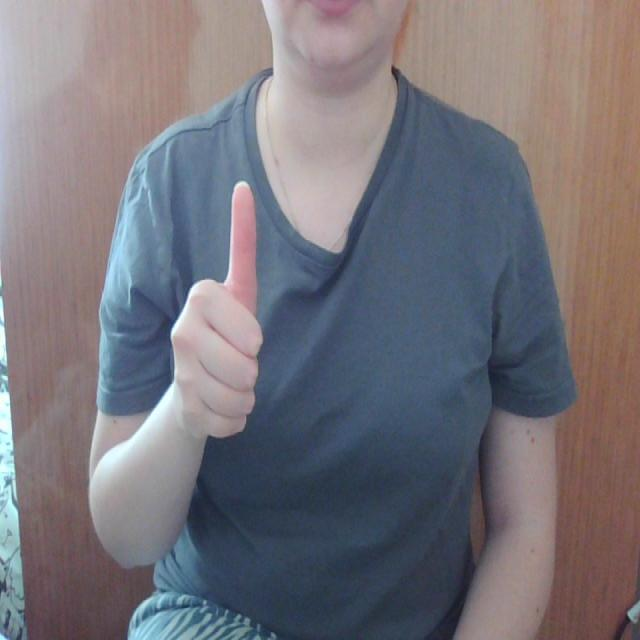Tamam: (169, 179, 269, 451)
